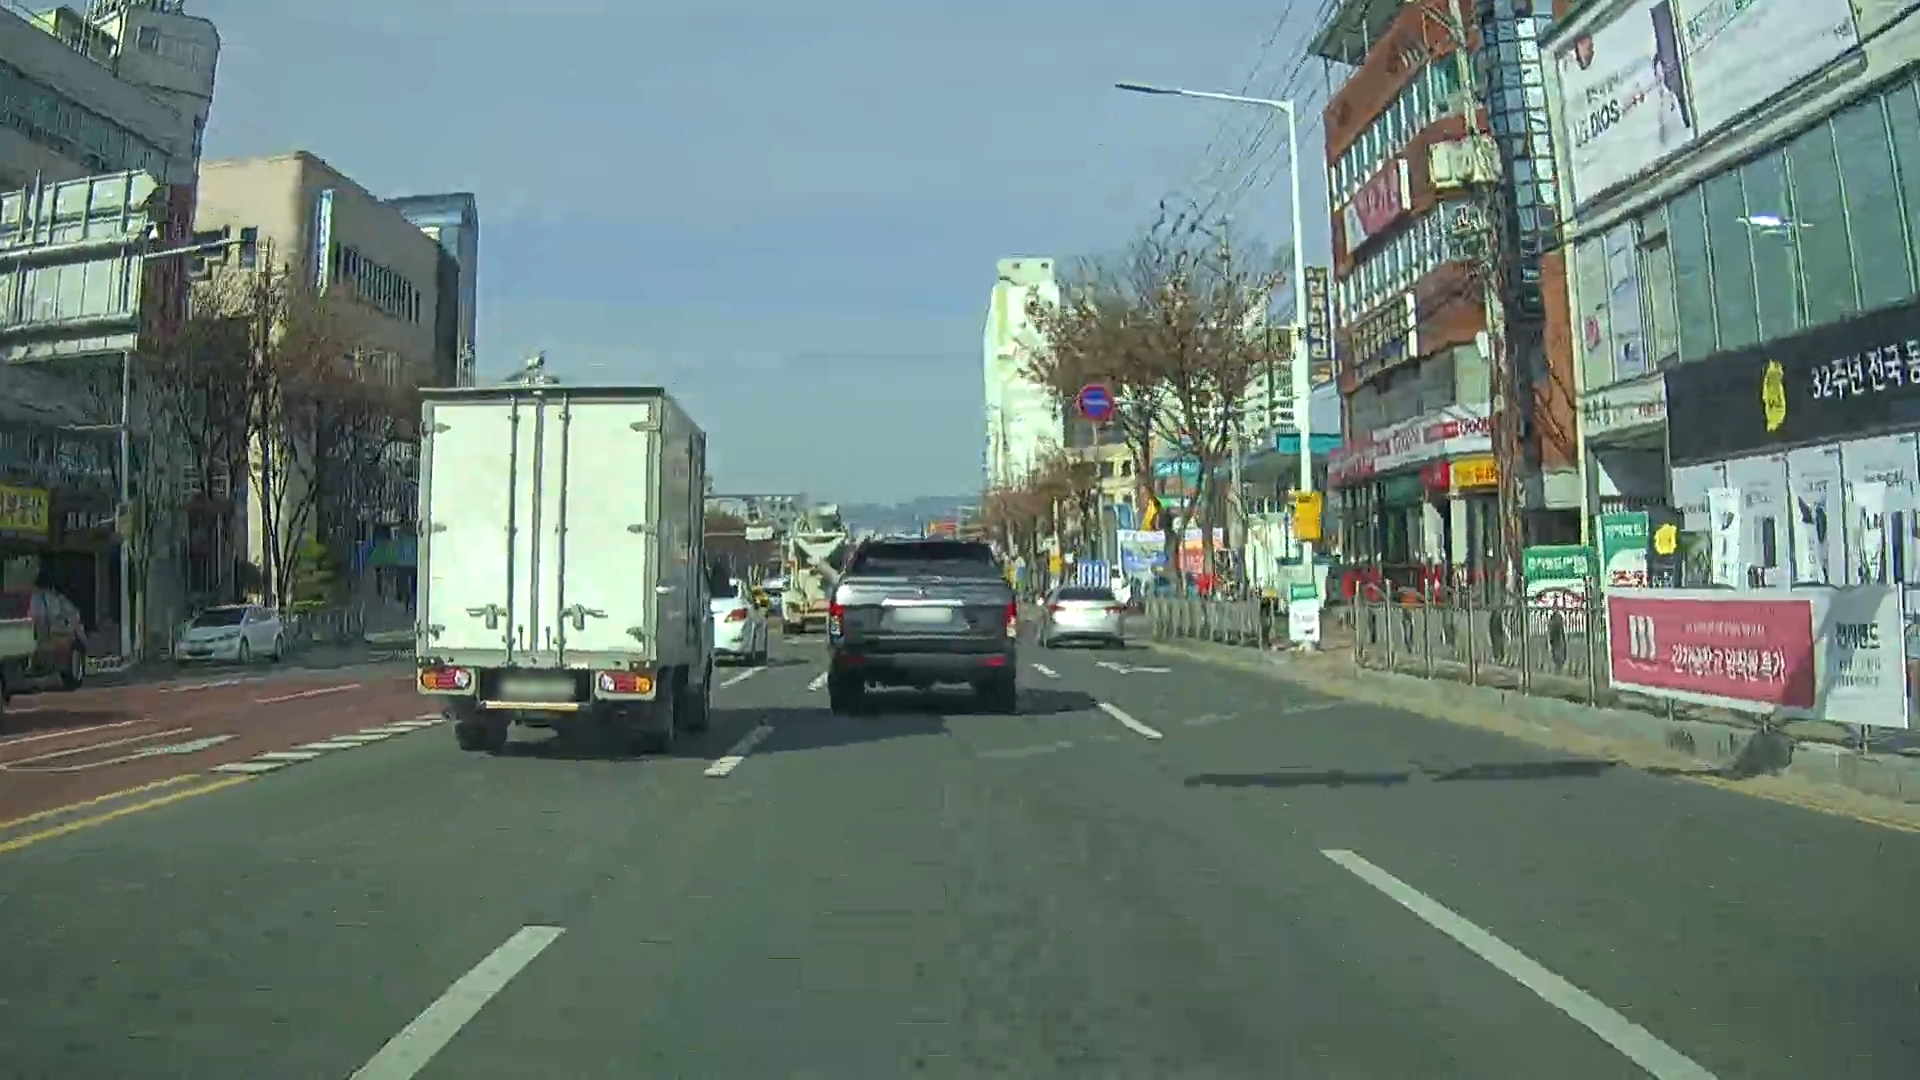trafficSignCircle: (1073, 378, 1116, 423)
